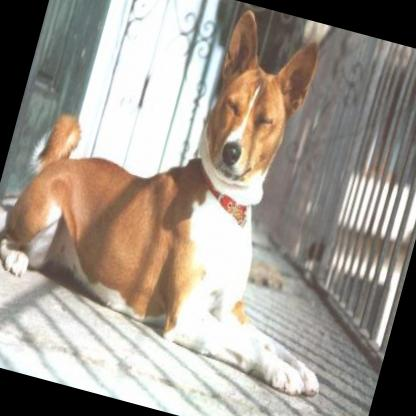basenji: (0, 0, 406, 397)
